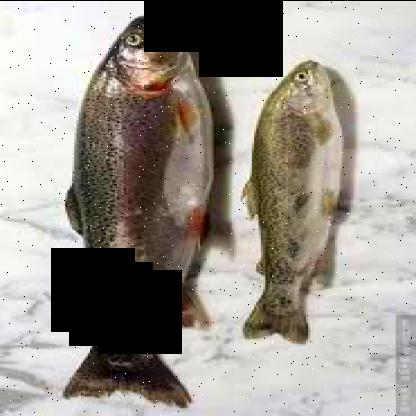fish: (55, 16, 225, 406), (240, 58, 345, 346)
